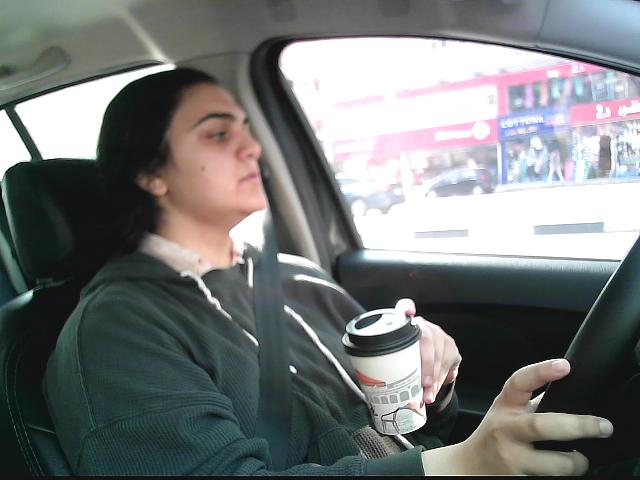Drinking: (341, 304, 434, 439)
